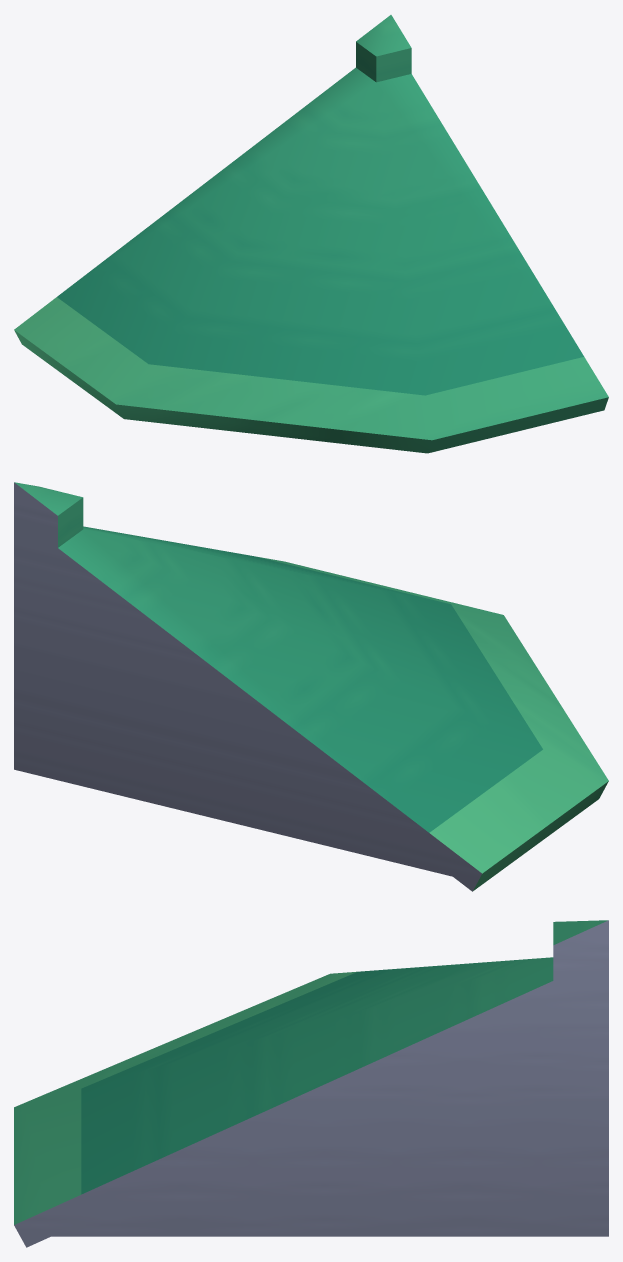
Rendered from roofCornerRound.fbx.
The picture shows the model from 3 angles, top to bottom: view 1: azimuth 30°, elevation 25°; view 2: azimuth 150°, elevation 25°; view 3: azimuth 270°, elevation 25°; orthographic projection. The views are drawn at different scales.
Visible parts, largest first — view 1: roofCornerRound; view 2: roofCornerRound; view 3: roofCornerRound.
Boxes of the visible parts, x1,y1,x2,y2 form: roofCornerRound: [14, 15, 608, 453]; roofCornerRound: [14, 482, 608, 891]; roofCornerRound: [14, 920, 608, 1247].
Size of the model in its own units: 1.07 by 1.07 by 0.6483.
